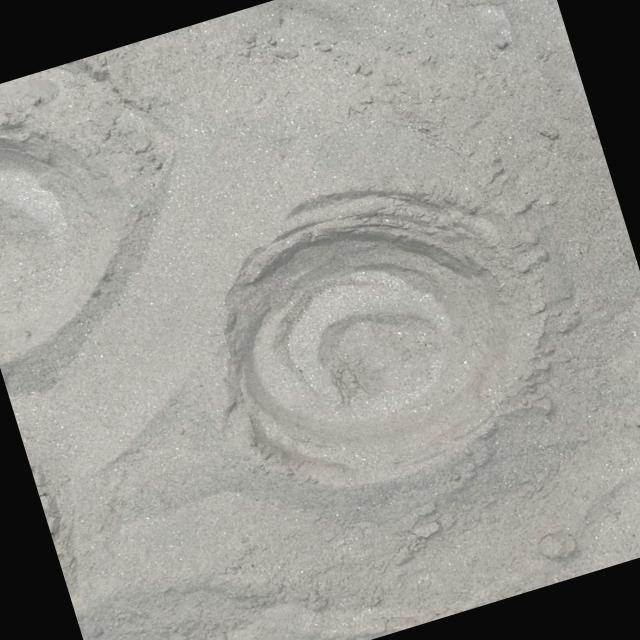C20: (235, 212, 508, 486), (0, 146, 121, 362)
